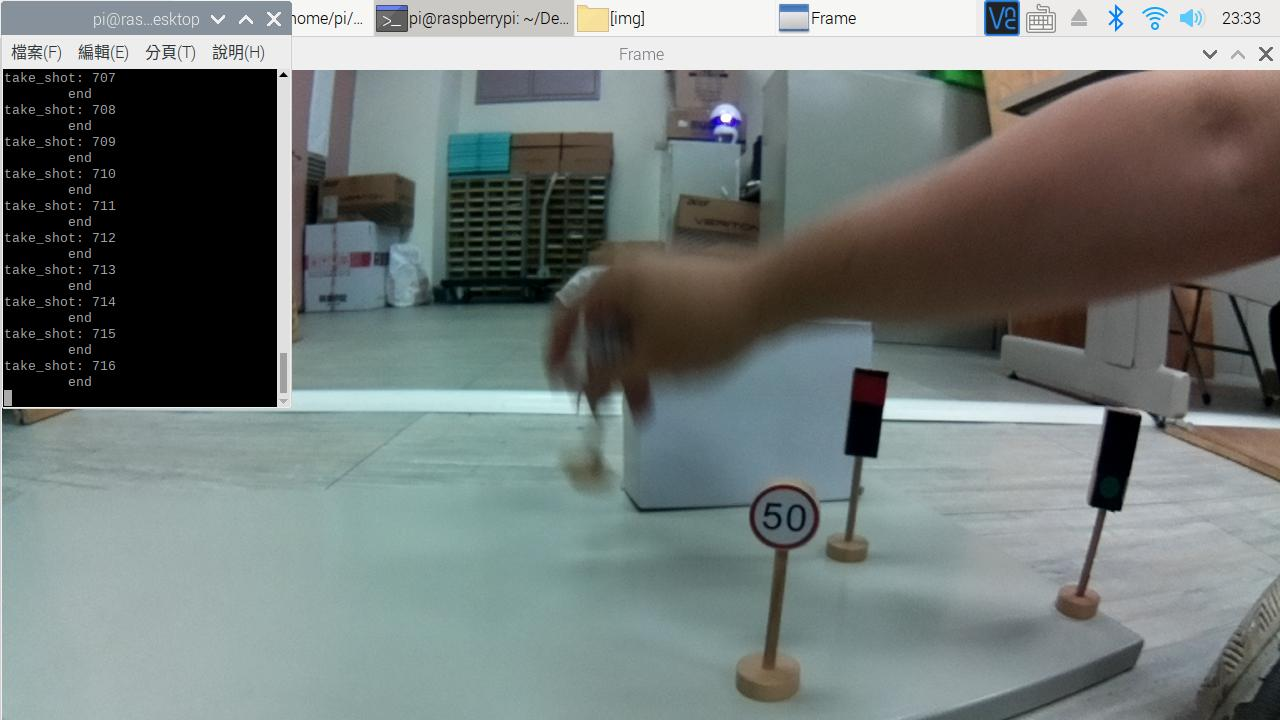Green: (1092, 401, 1144, 525)
Red: (846, 362, 886, 465)
Speed50: (748, 481, 824, 555)
